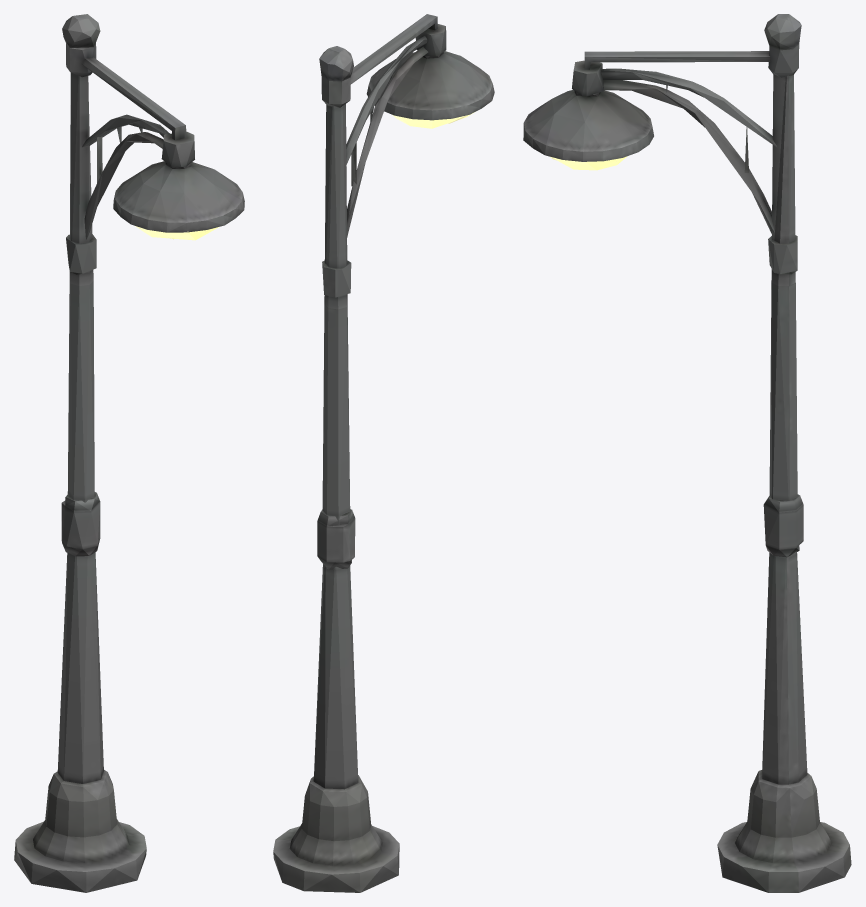
Rendered from farol.glb.
3 renders of one model, left to right at view 1: azimuth 30°, elevation 25°; view 2: azimuth 150°, elevation 25°; view 3: azimuth 270°, elevation 25°, orthographic. The views are drawn at different scales.
Parts seen in each view (by area): view 1: SM_Street_Light; view 2: SM_Street_Light; view 3: SM_Street_Light.
Boxes of the visible parts, bbox=[...] form: SM_Street_Light: bbox=[14, 14, 244, 892]; SM_Street_Light: bbox=[273, 14, 494, 892]; SM_Street_Light: bbox=[523, 14, 851, 892].
Bounding box in the file's own units: 0.4234 × 2.99 × 1.05.
2 materials, 2 textured.
